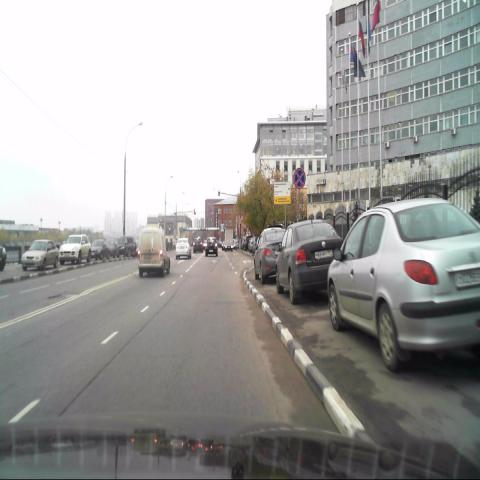3_27: (294, 166, 306, 189)
